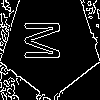M: (25, 20, 68, 61)
